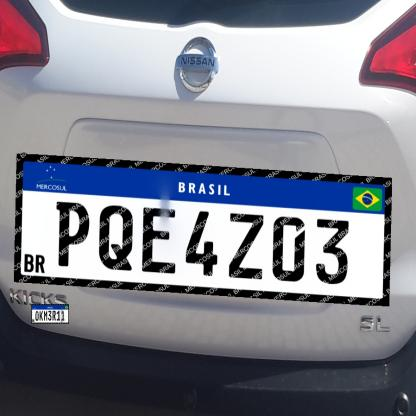PlacaM: (14, 154, 392, 306), (31, 304, 69, 324)
